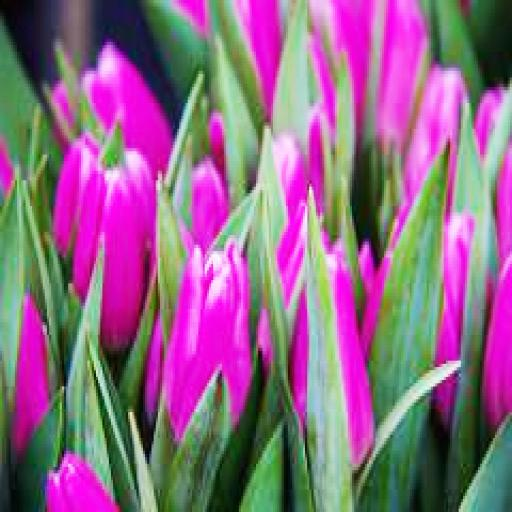tulip: (162, 232, 252, 444), (294, 251, 374, 467), (54, 45, 184, 174), (75, 164, 145, 358), (422, 206, 486, 412), (414, 71, 473, 225), (486, 155, 512, 441), (262, 142, 318, 232), (47, 451, 122, 512)
